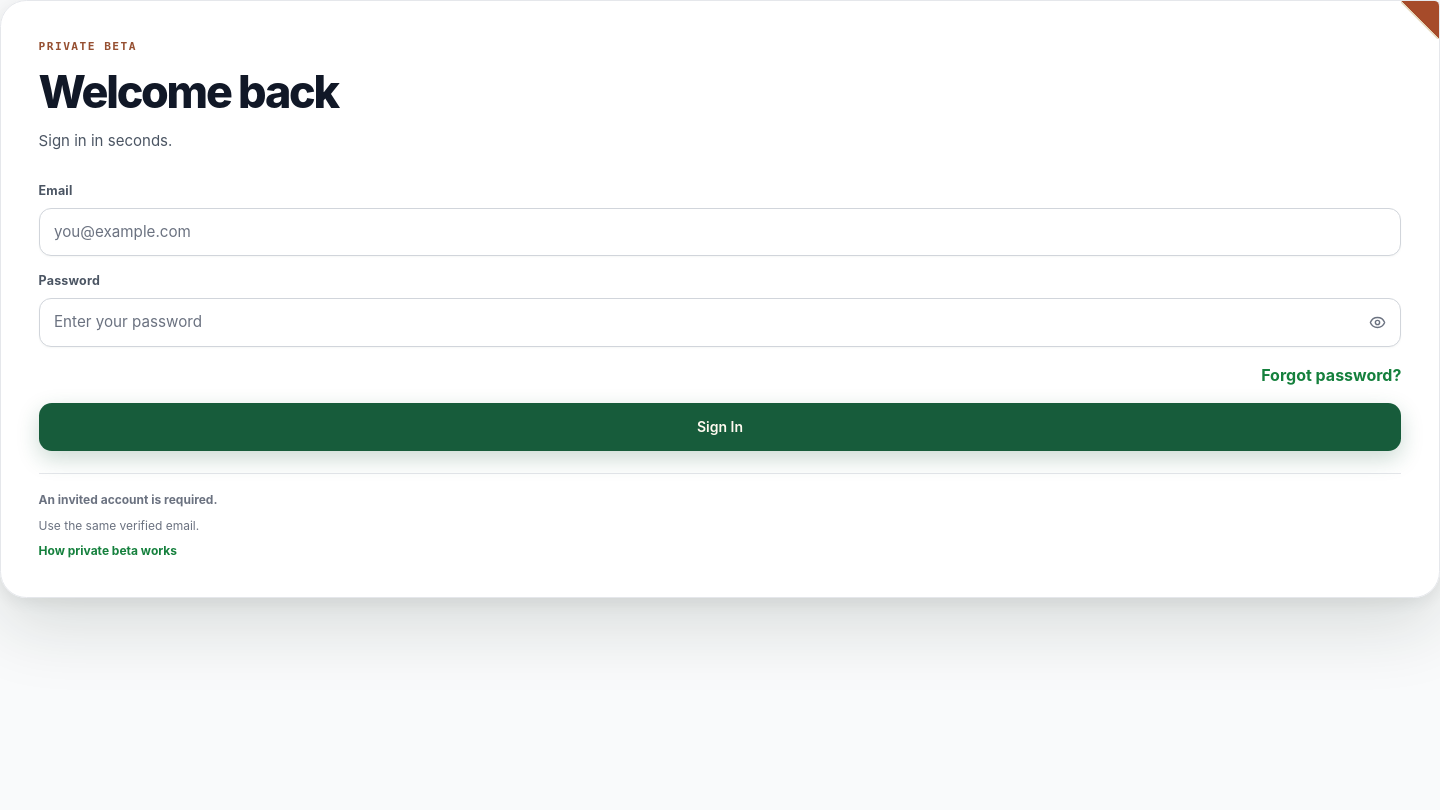
Test case: LoginForm › maps stable rate-limit codes
Type "a@b.com" into the field labelled "Email" at coordinates (720, 232), box [39, 208, 1401, 256]
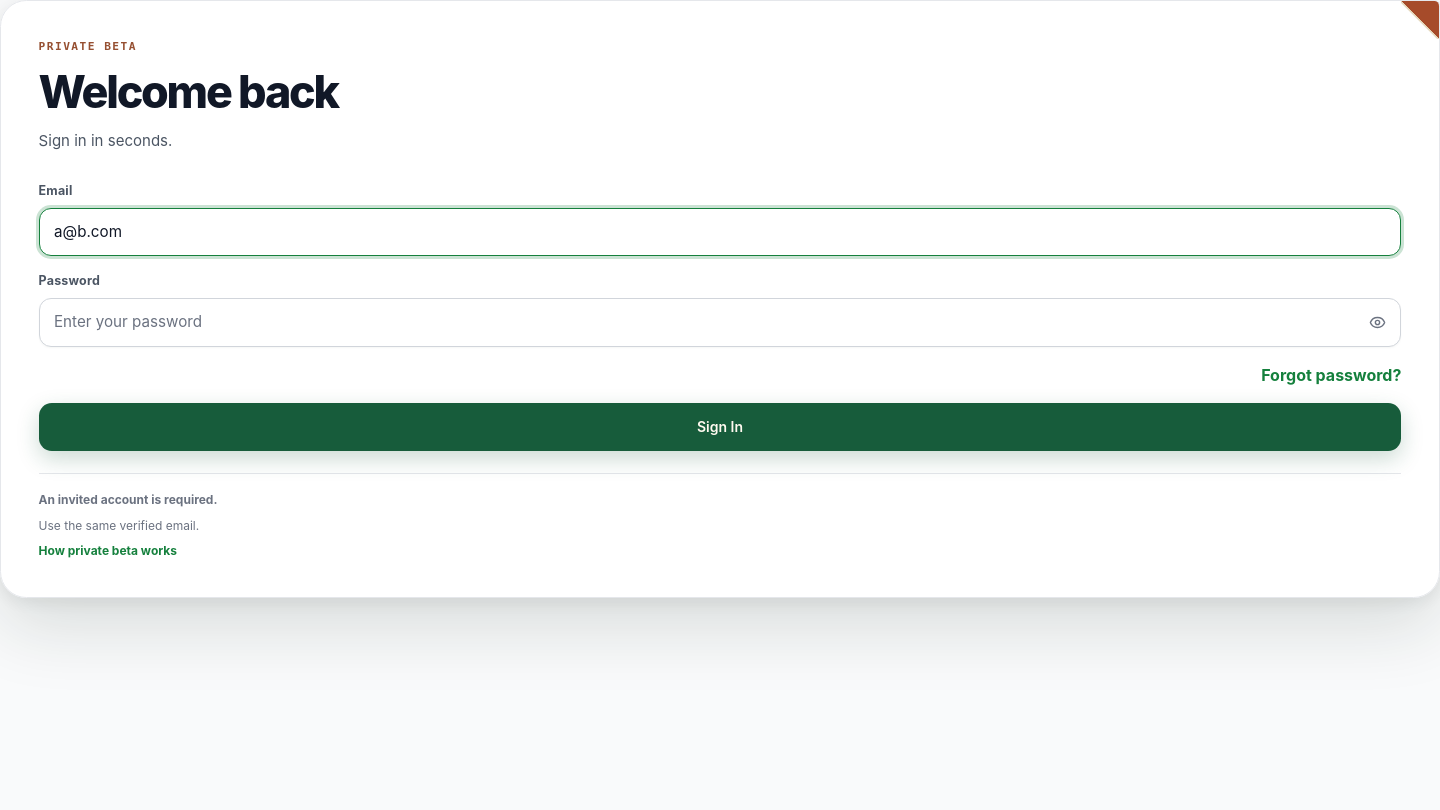
Type "secret" into the password field labelled "Password" at coordinates (720, 323), box [39, 298, 1401, 347]
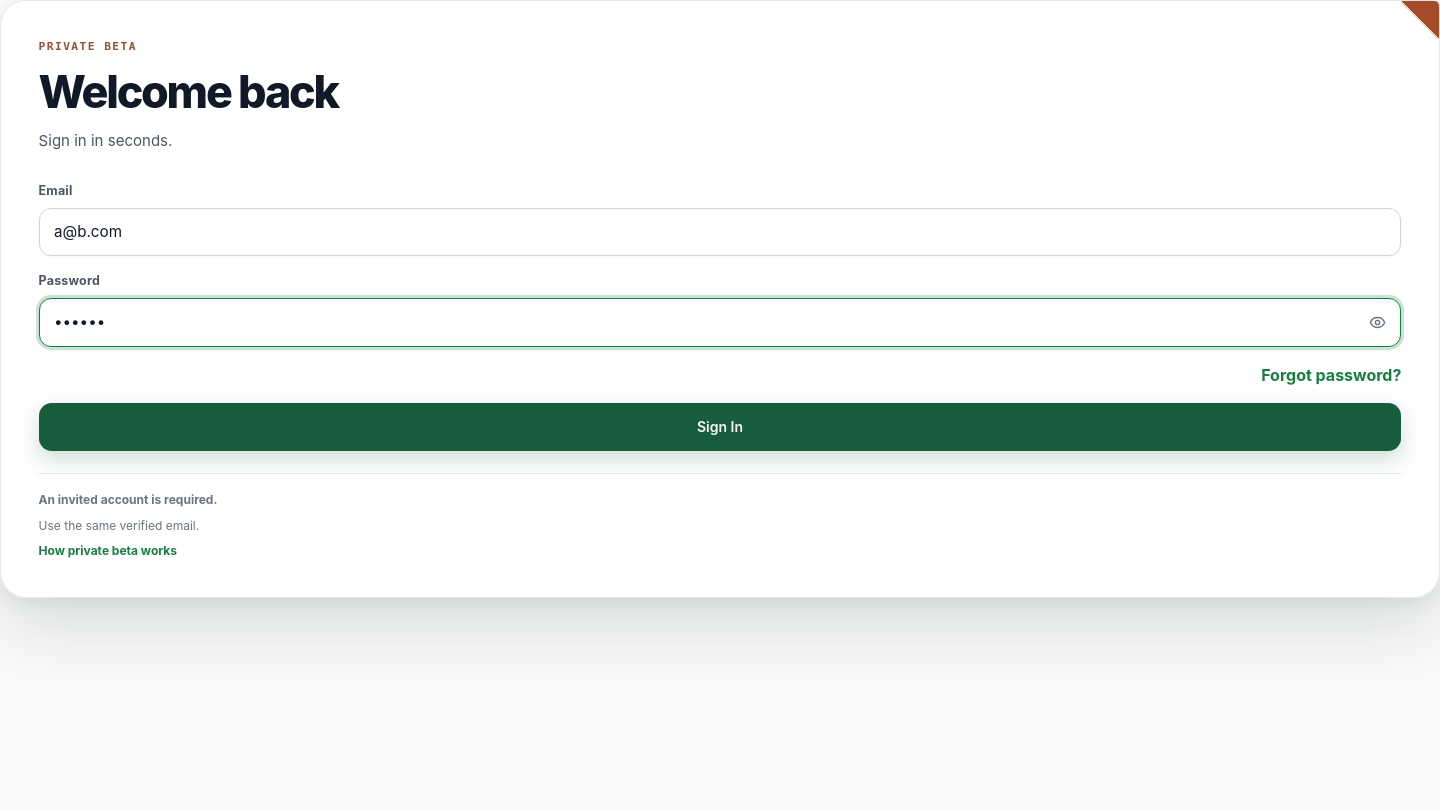
Click the button "Sign In" at coordinates (720, 427), box [39, 403, 1401, 451]
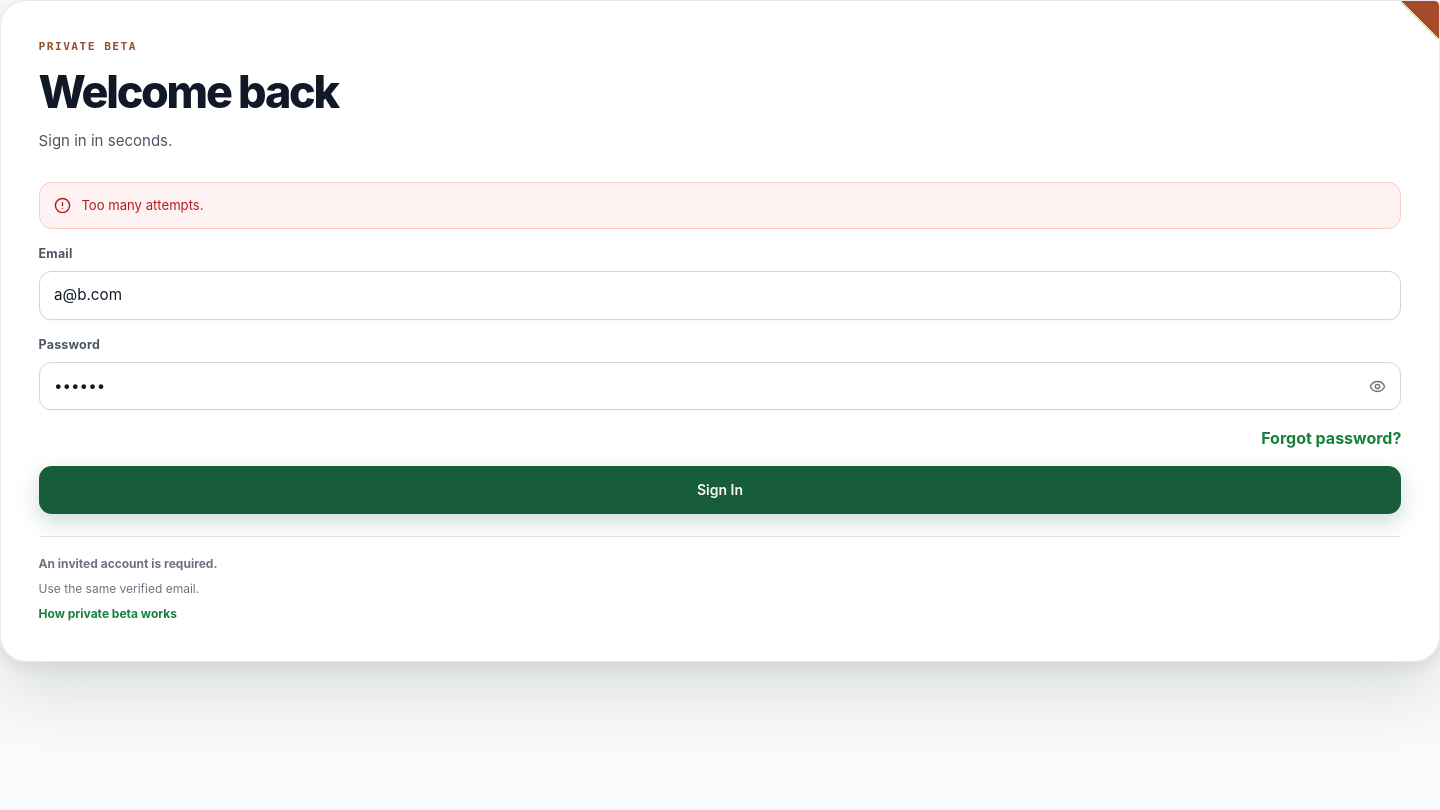
Result: the text "Too many attempts." is shown at [81, 196, 204, 215]
